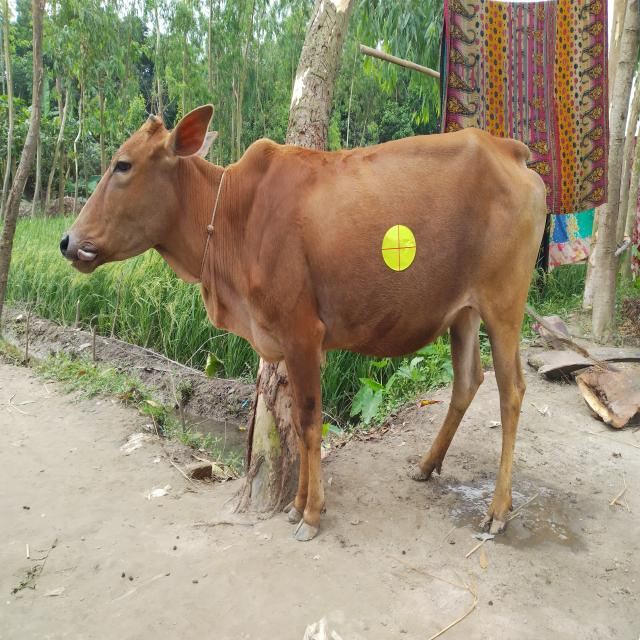badan_sapi: (257, 144, 541, 353)
sapi: (46, 91, 562, 581)
